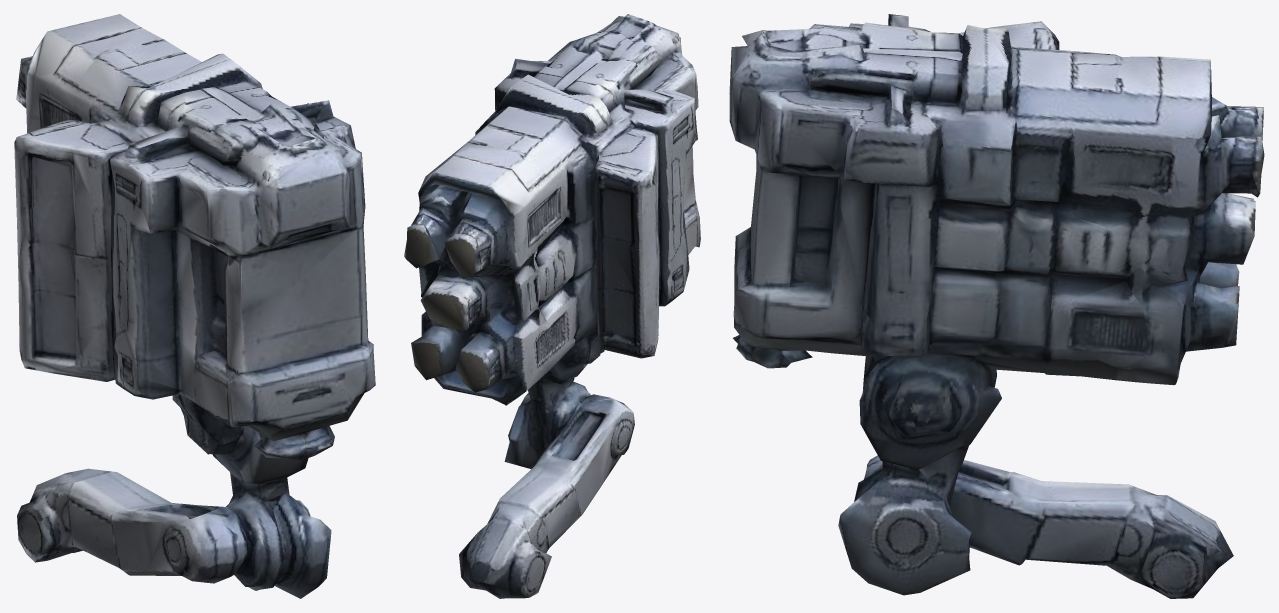
Rendered from wpn_hv_rocket_arm.glb.
3 views of the same model, side by side, from view 1: azimuth 30°, elevation 25°; view 2: azimuth 150°, elevation 25°; view 3: azimuth 270°, elevation 25° (orthographic). The views are drawn at different scales.
Parts seen in each view (by area): view 1: wpn_hv_rocket_arm; view 2: wpn_hv_rocket_arm; view 3: wpn_hv_rocket_arm.
Part boxes in pixels (x1=…): wpn_hv_rocket_arm: x1=14, y1=14, x2=375, y2=598; wpn_hv_rocket_arm: x1=404, y1=14, x2=700, y2=598; wpn_hv_rocket_arm: x1=729, y1=14, x2=1264, y2=598.
Bounding box in the file's own units: 0.1705 × 0.3609 × 0.307.
1 material, 1 textured.
